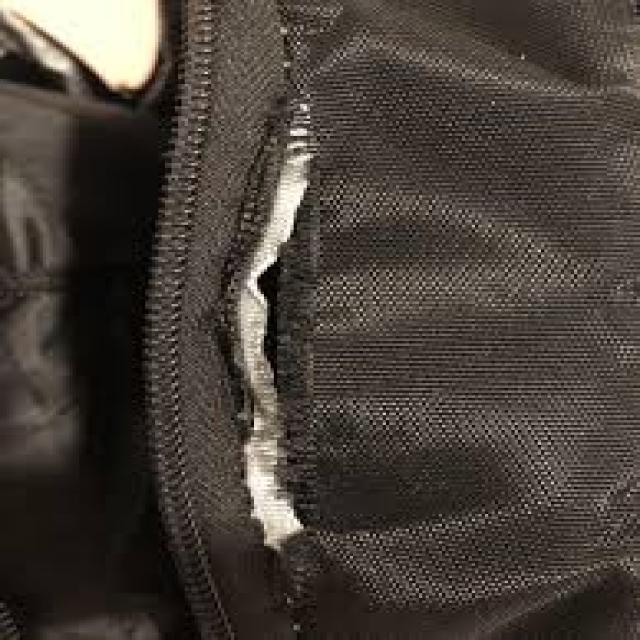Damage-bag: (215, 86, 335, 621)
